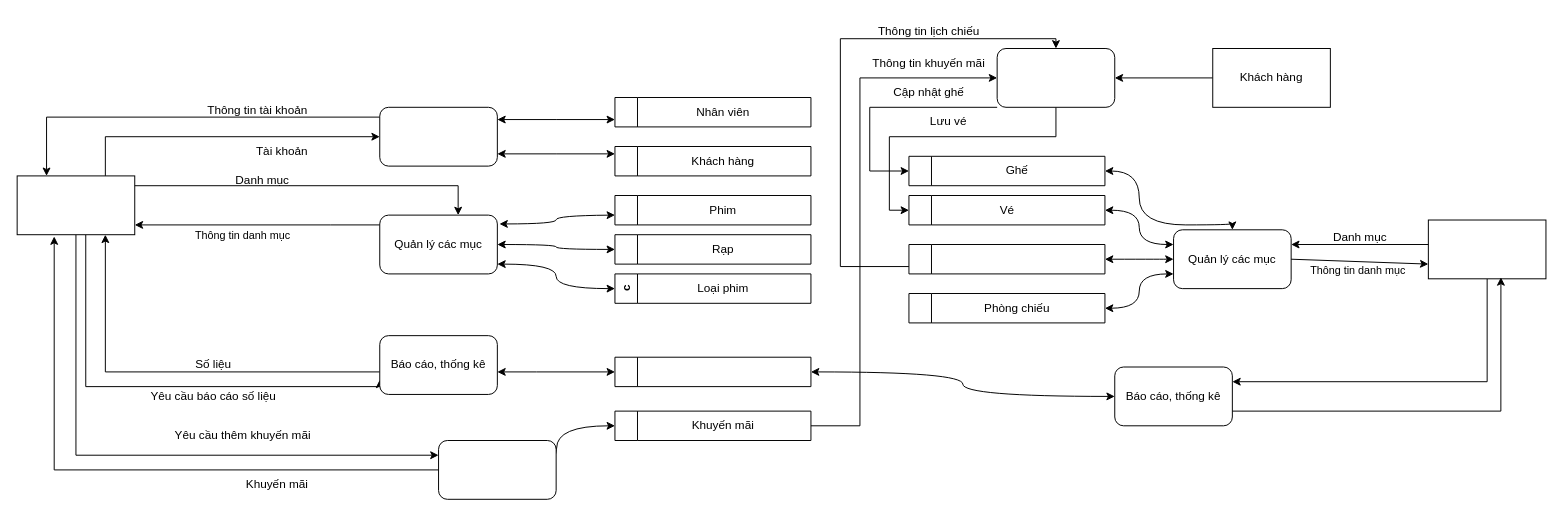
This 1563x516 diagram has some shape labels left out. The shapes that lost their labels are listed below. From the top down, each one's box as (x1, y1, x2, y2) in pixels, then its label:
(996, 48, 1115, 107): Đặt vé
(379, 106, 497, 166): Quản lý tài khoản
(16, 175, 135, 235): Chủ Rạp
(908, 244, 1105, 274): Lịch chiếu
(1427, 219, 1546, 279): Quản lý rạp
(614, 356, 811, 387): Hoá đơn
(438, 440, 556, 499): Quản lý khuyến mãi
